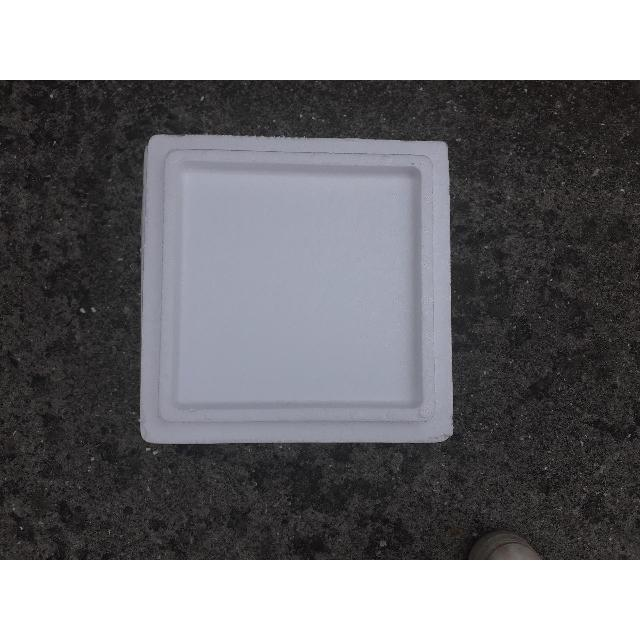Plastico descartable: (139, 135, 453, 448)
